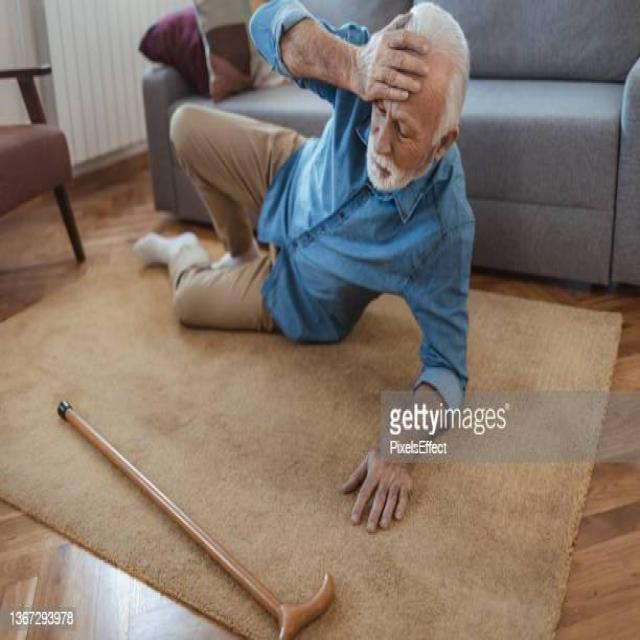fall: (120, 7, 490, 536)
